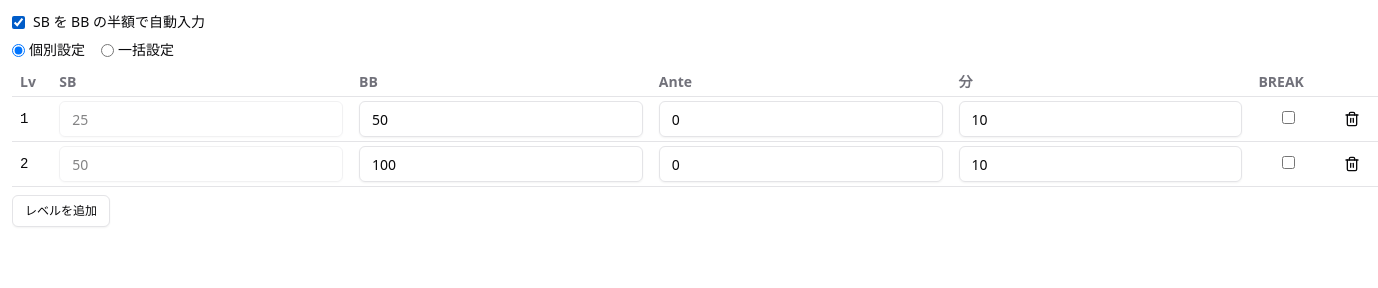
Test case: LevelTable — 一括時間設定 › 一括に切替えると一括入力が表示され、行ごとの分入力が disabled になる
Step 1. Click the radio button with aria-label "duration-mode-bulk" → (108, 50), box [101, 44, 114, 56]
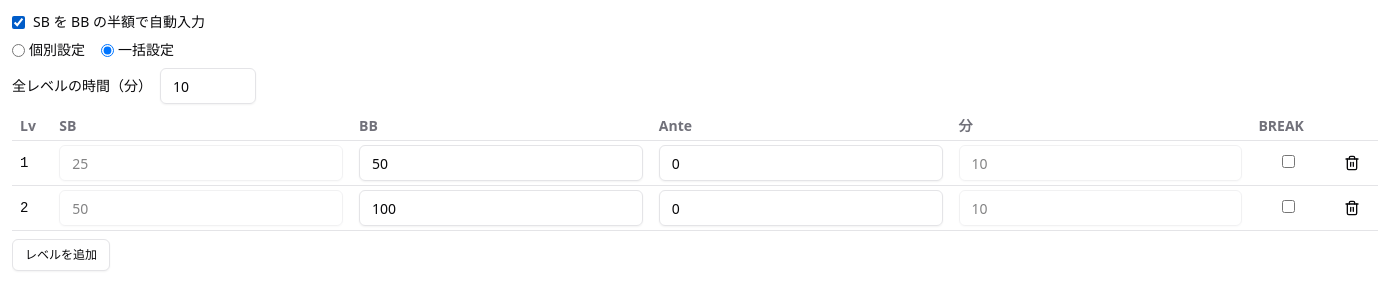
Now the number field named "bulk-duration-min" is shown, box [160, 68, 256, 104]
Now the number field named "level-1-duration-min" is disabled, box [959, 145, 1242, 181]
Now the number field named "level-2-duration-min" is disabled, box [959, 190, 1242, 226]
